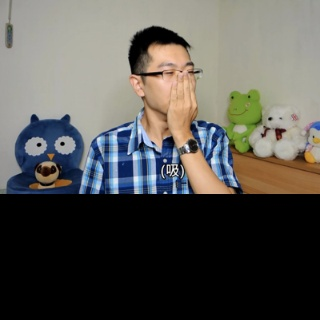with_mask: (144, 60, 197, 118)
